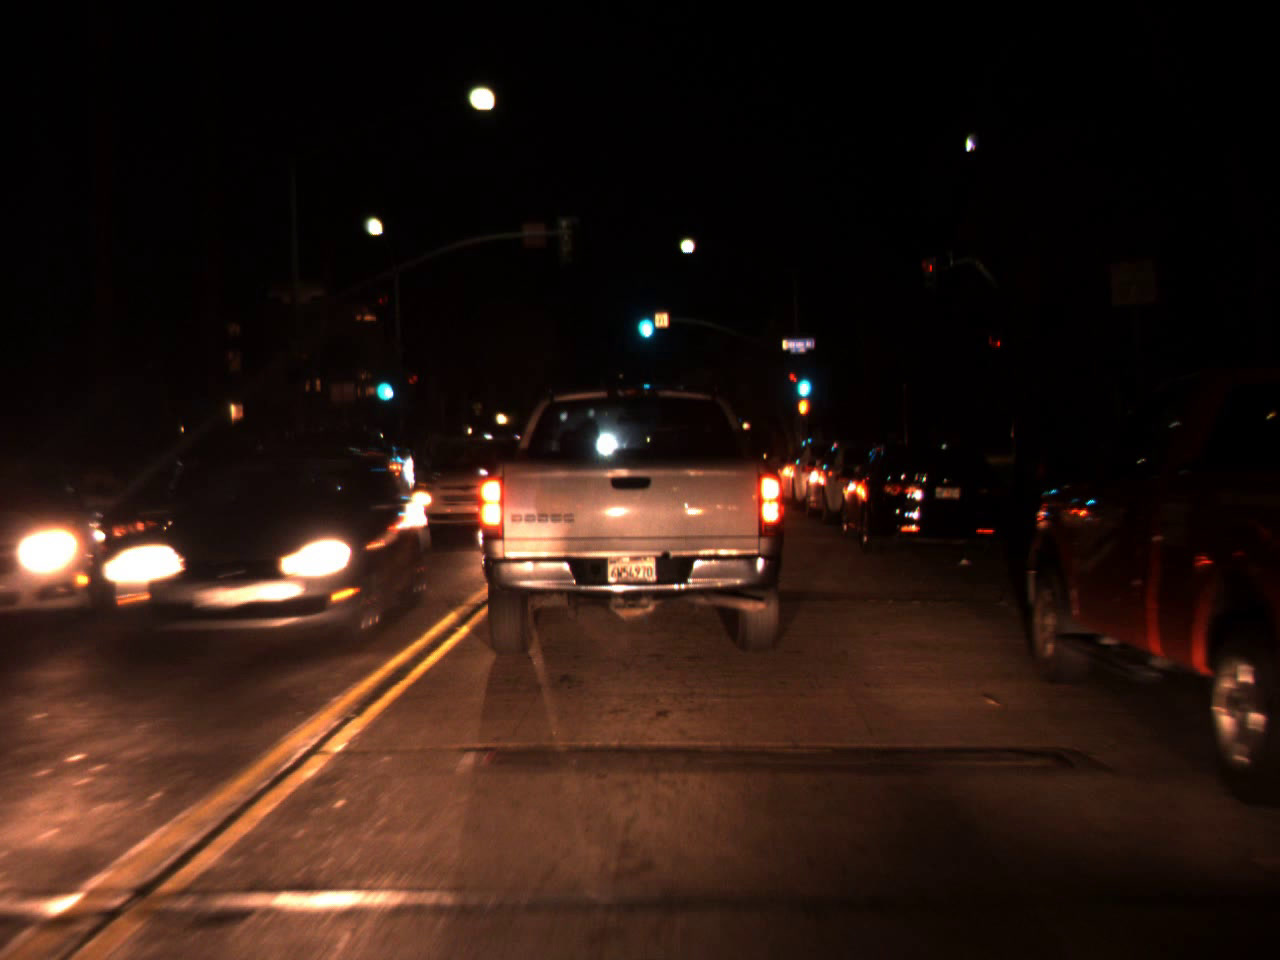go: (632, 296, 655, 344), (372, 360, 393, 408), (792, 363, 813, 402)
